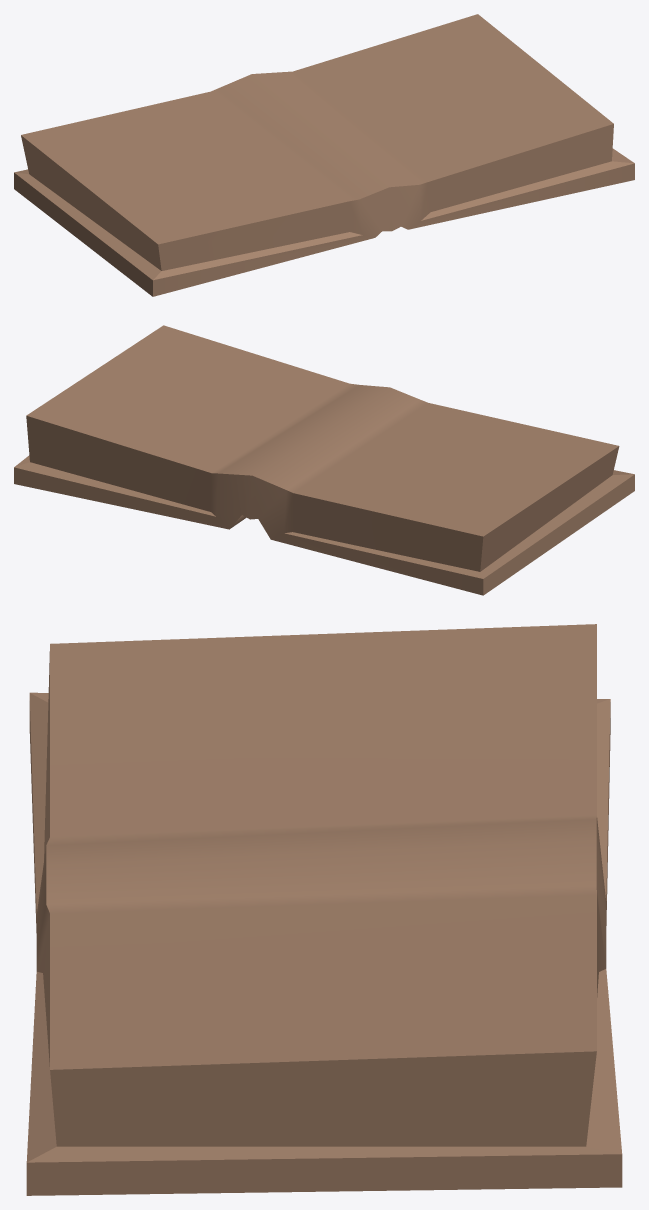
The model's file is mesh_libro3.fbx.
3 renders of one model, top to bottom at view 1: azimuth 30°, elevation 25°; view 2: azimuth 150°, elevation 25°; view 3: azimuth 270°, elevation 25°, orthographic. The views are drawn at different scales.
Visible parts, largest first — view 1: mesh_libro3; view 2: mesh_libro3; view 3: mesh_libro3.
Boxes of the visible parts, x1,y1,x2,y2 form: mesh_libro3: (14, 14, 634, 296); mesh_libro3: (14, 325, 634, 595); mesh_libro3: (26, 624, 622, 1195).
Bounding box in the file's own units: 89.7 × 11.6 × 48.04.
